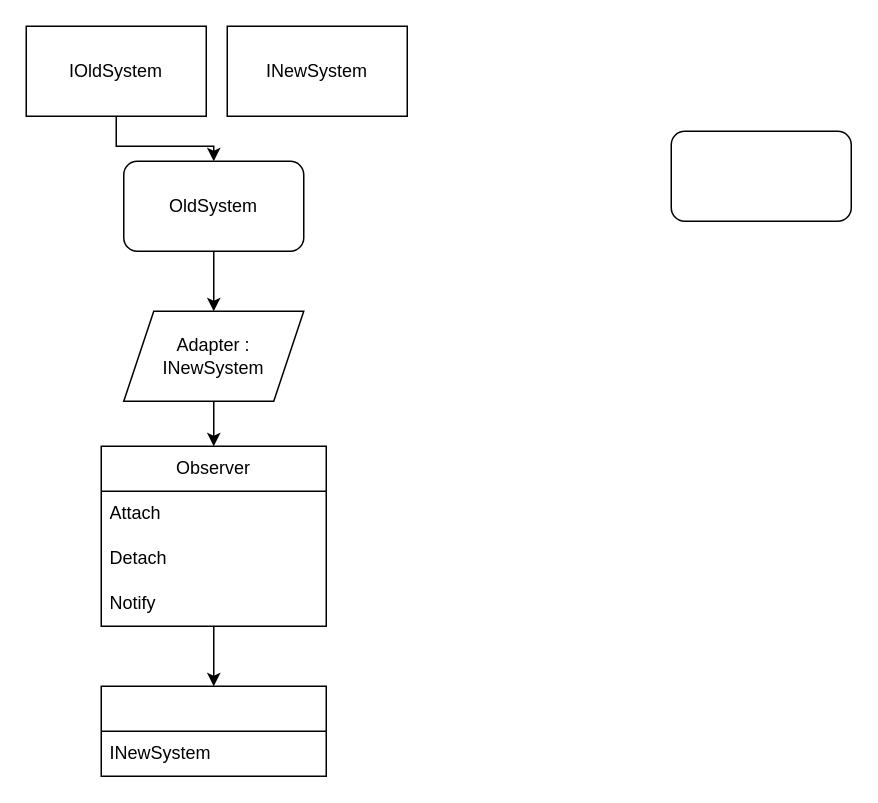
Image size: 878x803. Some labels were removed from this diagram. The shapes that lost their labels are listed below. From the top down, each one's box as (x1, y1, x2, y2) in pixels, then its label:
(670, 130, 851, 221): main
(100, 685, 326, 776): SystemFacade
